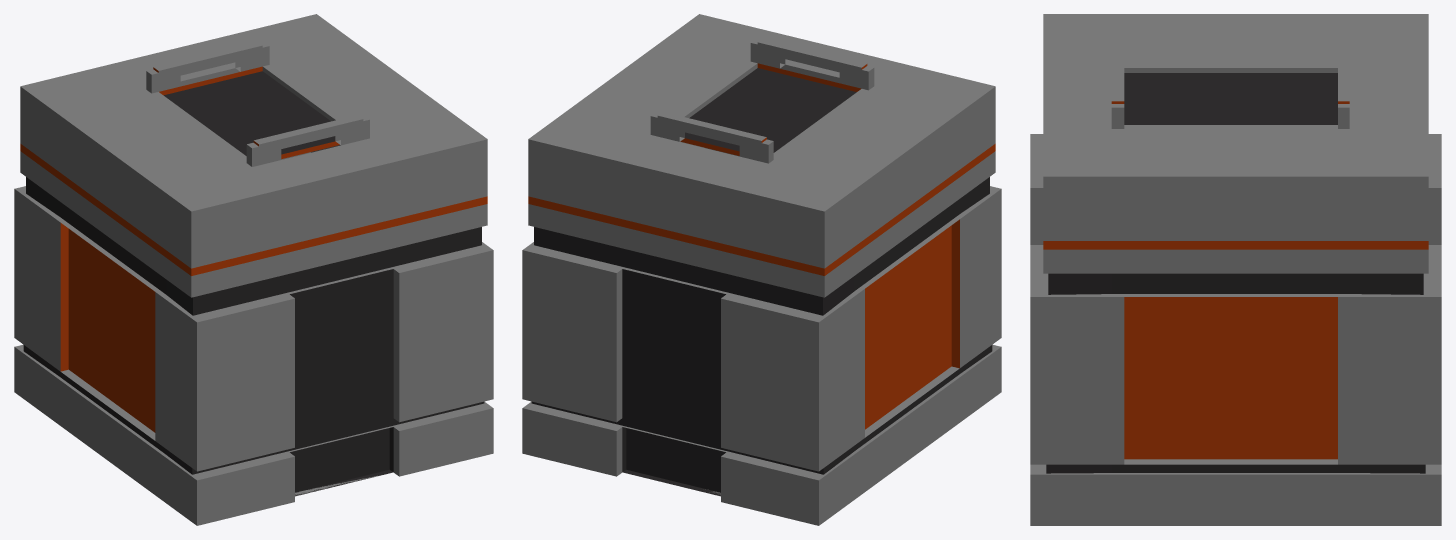
File: caja.fbx
3 views of the same model, side by side, from view 1: azimuth 30°, elevation 25°; view 2: azimuth 150°, elevation 25°; view 3: azimuth 270°, elevation 25° (orthographic). The views are drawn at different scales.
Parts seen in each view (by area): view 1: Cube.003; view 2: Cube.003; view 3: Cube.003.
Part boxes in pixels (left/top/right/bottom): Cube.003: left=14, top=14, right=493, bottom=525; Cube.003: left=522, top=14, right=1001, bottom=525; Cube.003: left=1030, top=14, right=1441, bottom=525.
Size of the model in its own units: 135 by 144 by 144.
